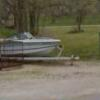Boat: (3, 23, 73, 70)
